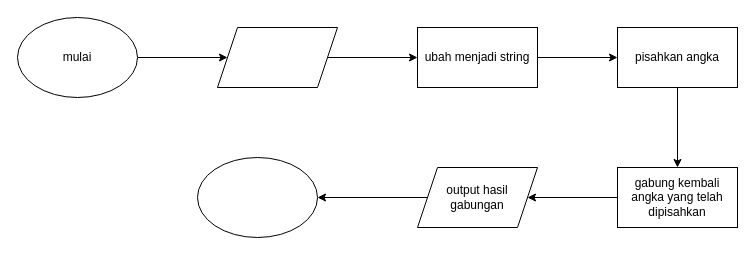
This 755x255 diagram has some shape labels left out. The shapes that lost their labels are listed below. From the top down, each one's centre as x and y in pixels, then its label:
pixel 277 57: input angka
pixel 257 197: selesai
